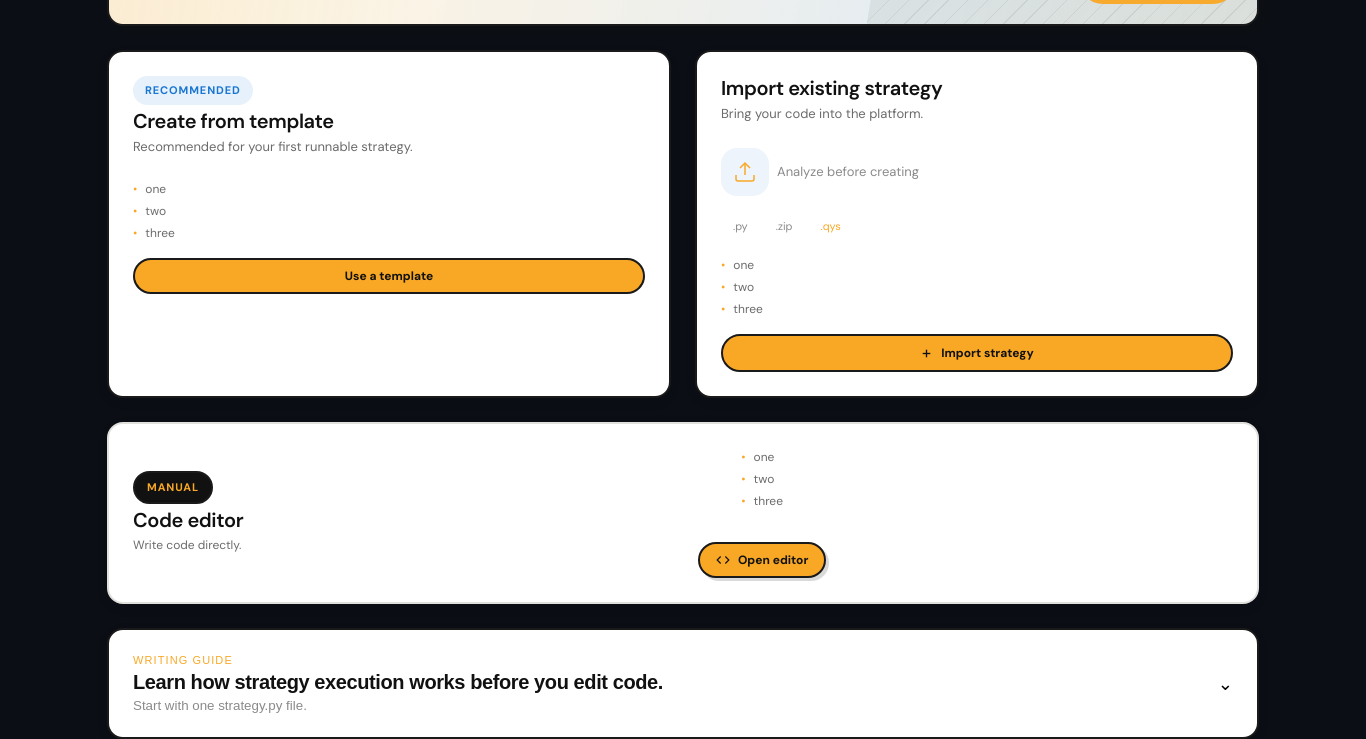
Test: NewStrategyView › reveals the merged writing guide content and deep-link actions
The image size is (1366, 739).
(page scrolled)
Expected: the text "Write an on_bar(ctx, data) function." is not shown
Click the button with test id "guide-toggle": point(183, 660) left=133, top=654, right=1233, bottom=713
(page scrolled)
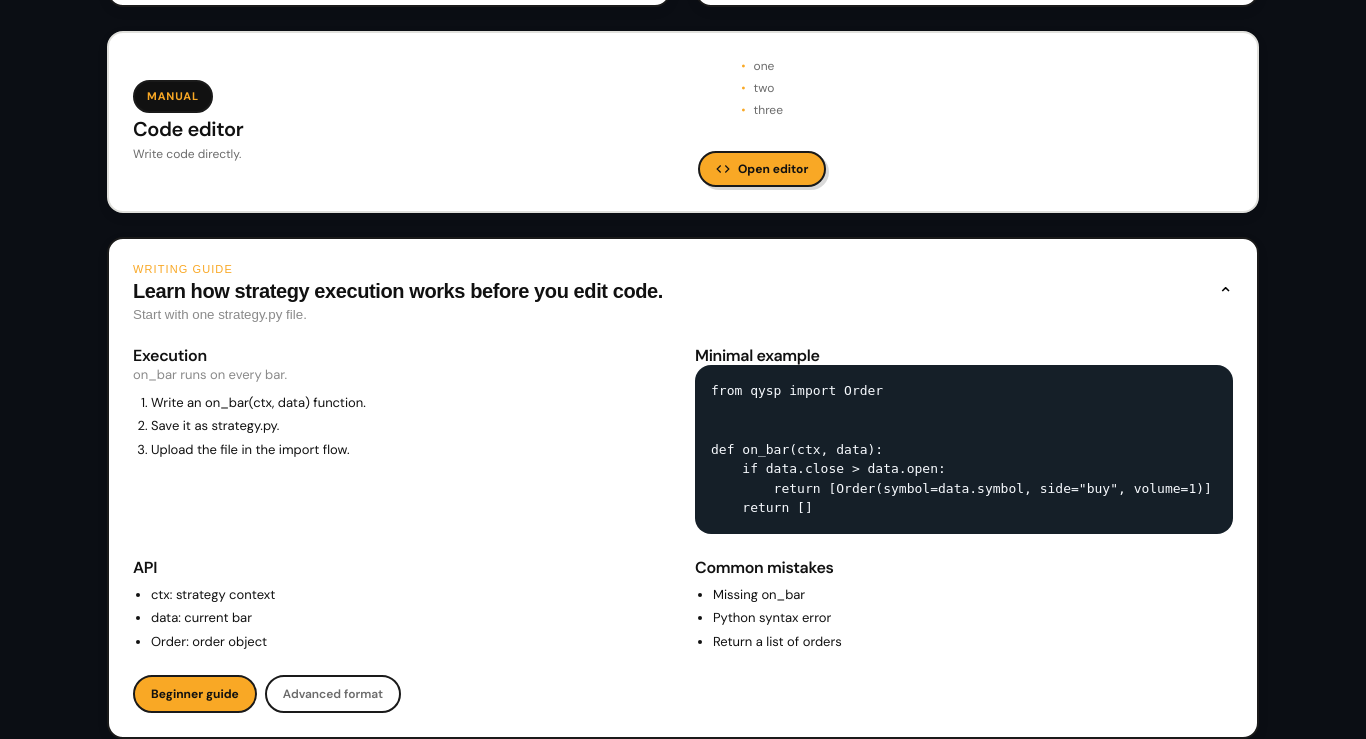
Now the text "Write an on_bar(ctx, data) function." is shown, box left=151, top=394, right=366, bottom=411
Now the text "def on_bar(ctx, data):" is shown, box left=711, top=383, right=1212, bottom=515
Now the text "ctx: strategy context" is shown, box left=151, top=586, right=275, bottom=603
